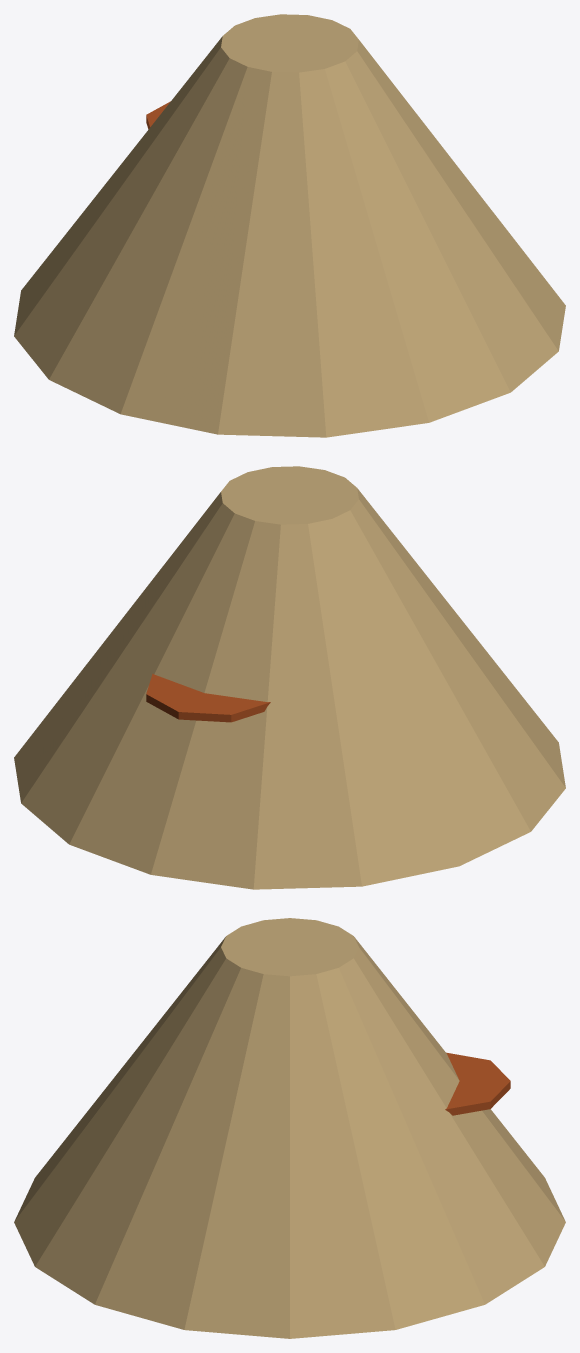
Rendered from volcanic_cone_landmark.glb.
The picture shows the model from 3 angles, top to bottom: view 1: azimuth 30°, elevation 25°; view 2: azimuth 150°, elevation 25°; view 3: azimuth 270°, elevation 25°; orthographic projection.
Visible parts, largest first — view 1: volcanic_cone; view 2: volcanic_cone, crater; view 3: volcanic_cone, crater.
Part boxes in pixels (bbox=[...]): volcanic_cone: bbox=[14, 14, 565, 437]; volcanic_cone: bbox=[14, 466, 565, 889]; crater: bbox=[146, 673, 270, 722]; volcanic_cone: bbox=[14, 918, 565, 1338]; crater: bbox=[445, 1052, 510, 1115].
Bounding box in the file's own units: 40 × 22 × 40.
